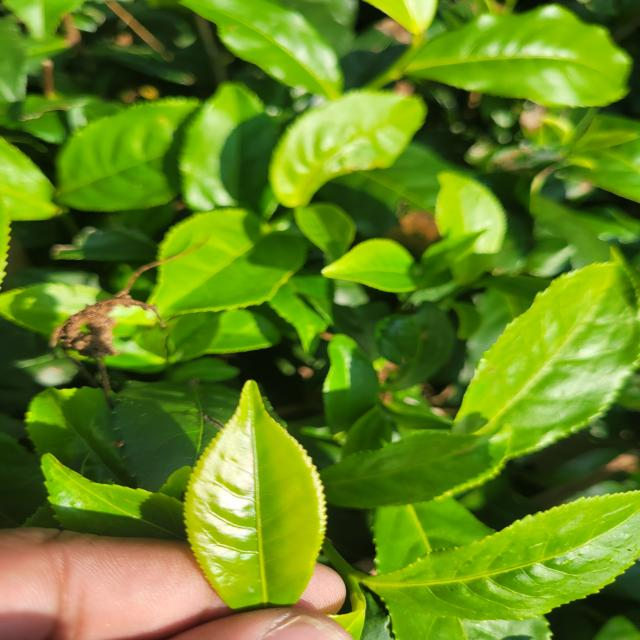Catagory A(1-2 days): (172, 373, 332, 608)
